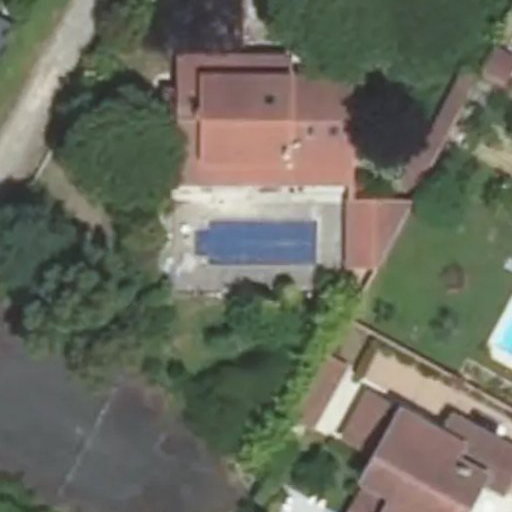pool: (195, 221, 316, 262)
